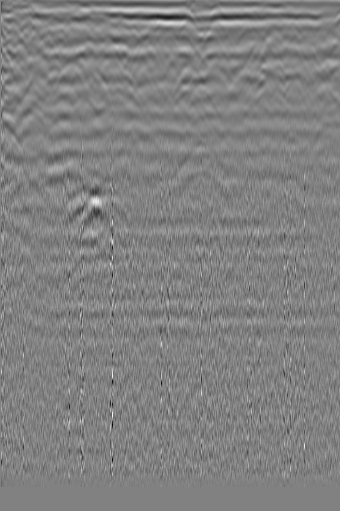상수: (293, 39, 327, 72)
오수: (14, 17, 53, 45)
우수: (133, 41, 167, 78)
